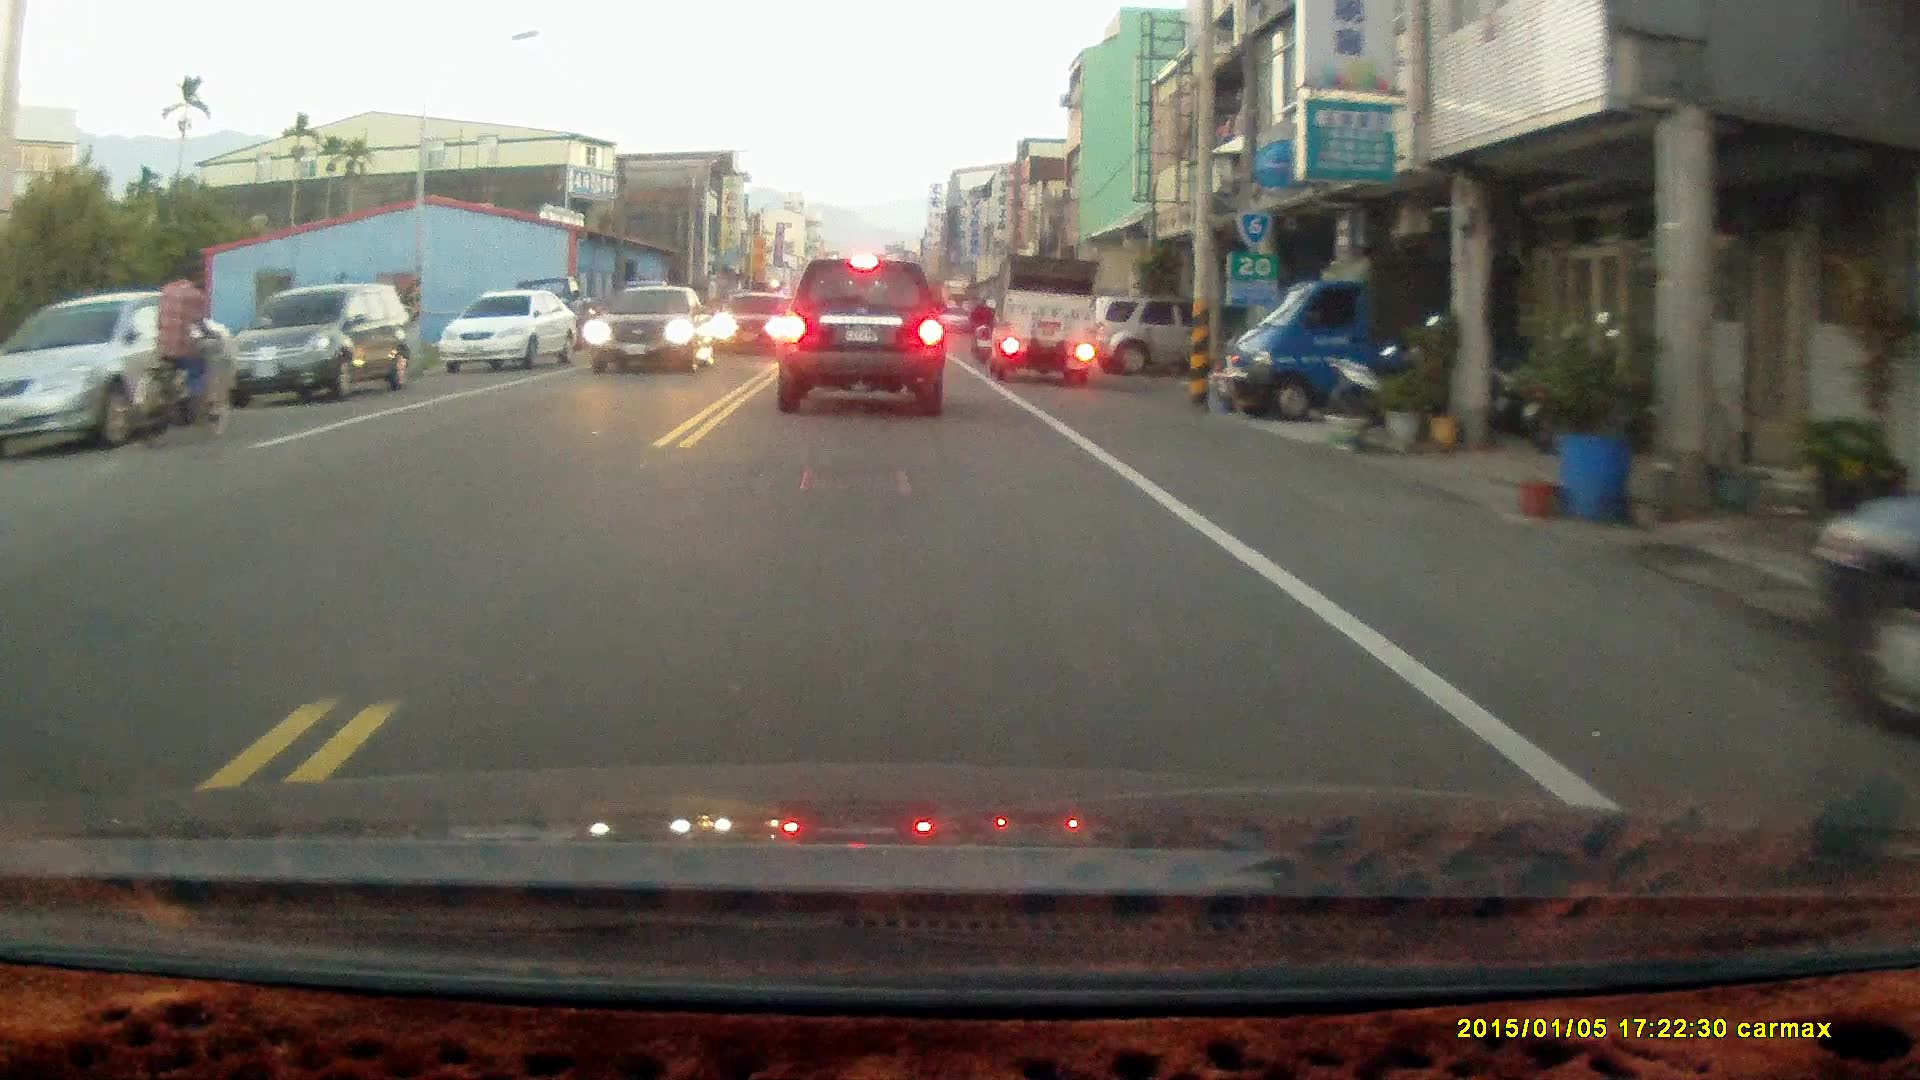rider: (131, 254, 232, 449), (965, 284, 1000, 363)
vehicle: (1801, 361, 1920, 738), (1233, 226, 1457, 422), (1, 291, 245, 454), (776, 254, 948, 415), (218, 279, 421, 404), (994, 251, 1099, 382), (444, 286, 586, 372), (590, 281, 712, 372), (1093, 289, 1191, 375), (715, 286, 794, 354)
